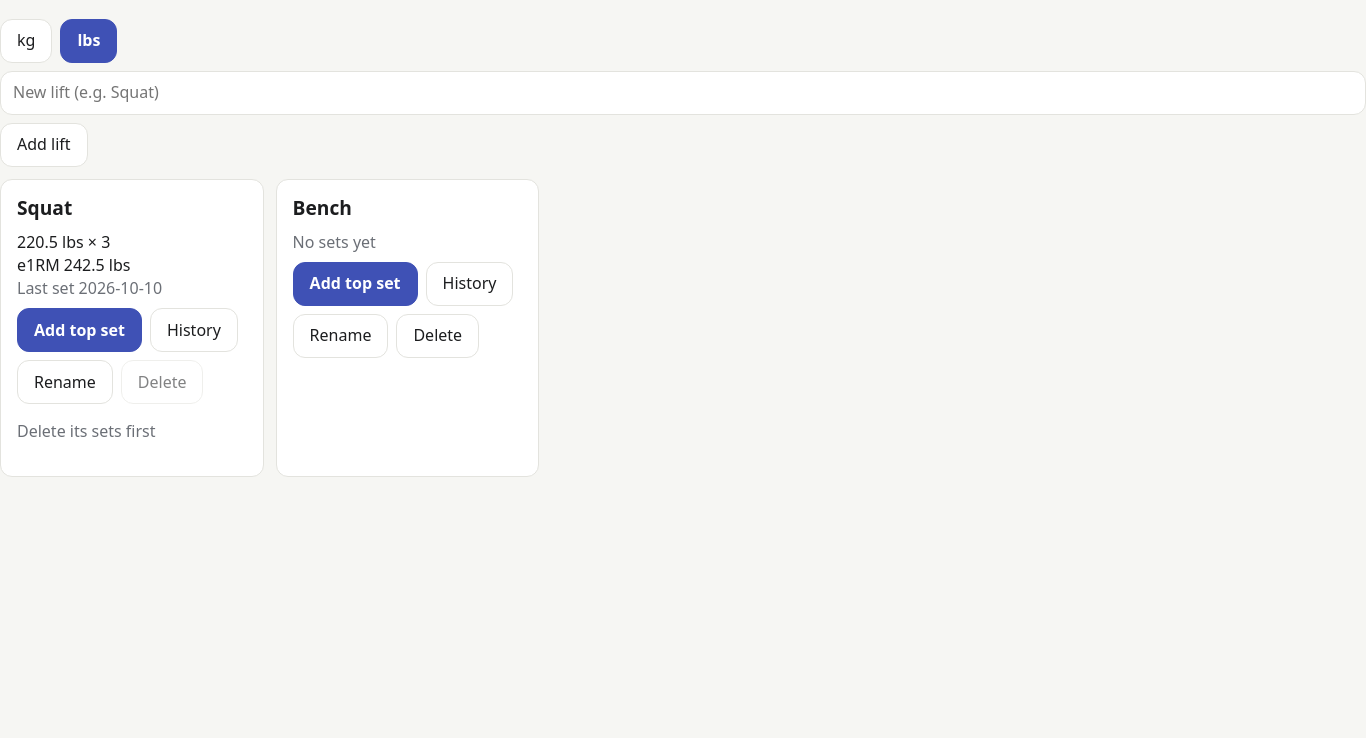
history list and chart use the saved unit
expect the text "220.5 lbs × 3" is shown: met, box [17,231,110,253]
Click the button "History" below "Last set".
click(194, 330)  # box [150,308,238,352]
(page scrolled)
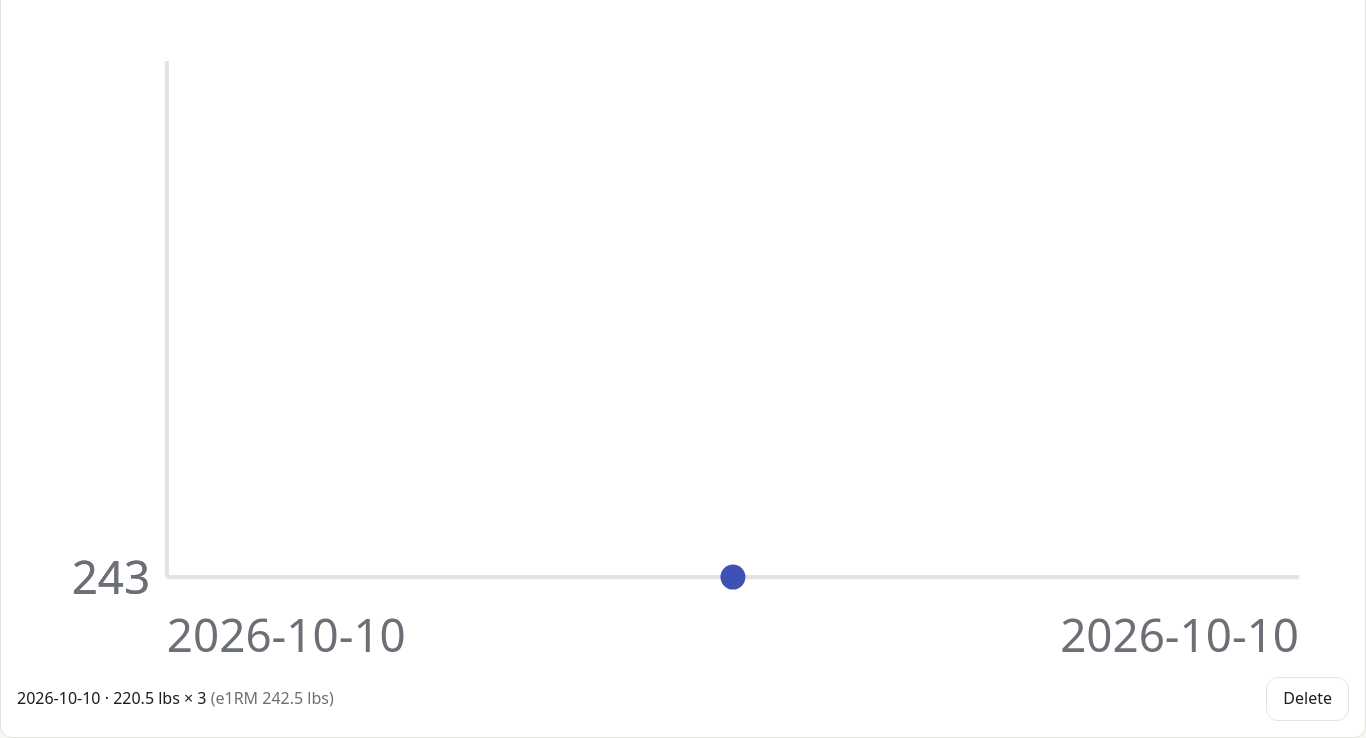
expect the picture named "lbs" is shown: met
expect the list item shows "220.5 lbs × 3": met, box [17,677,1349,721]
